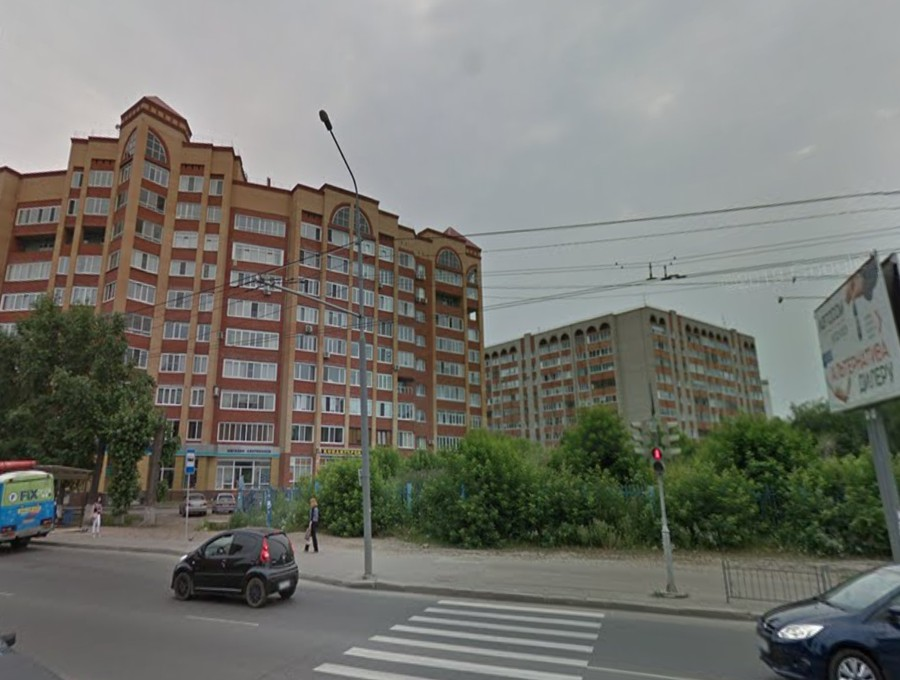Traffic Light-red: (644, 446, 668, 475)
